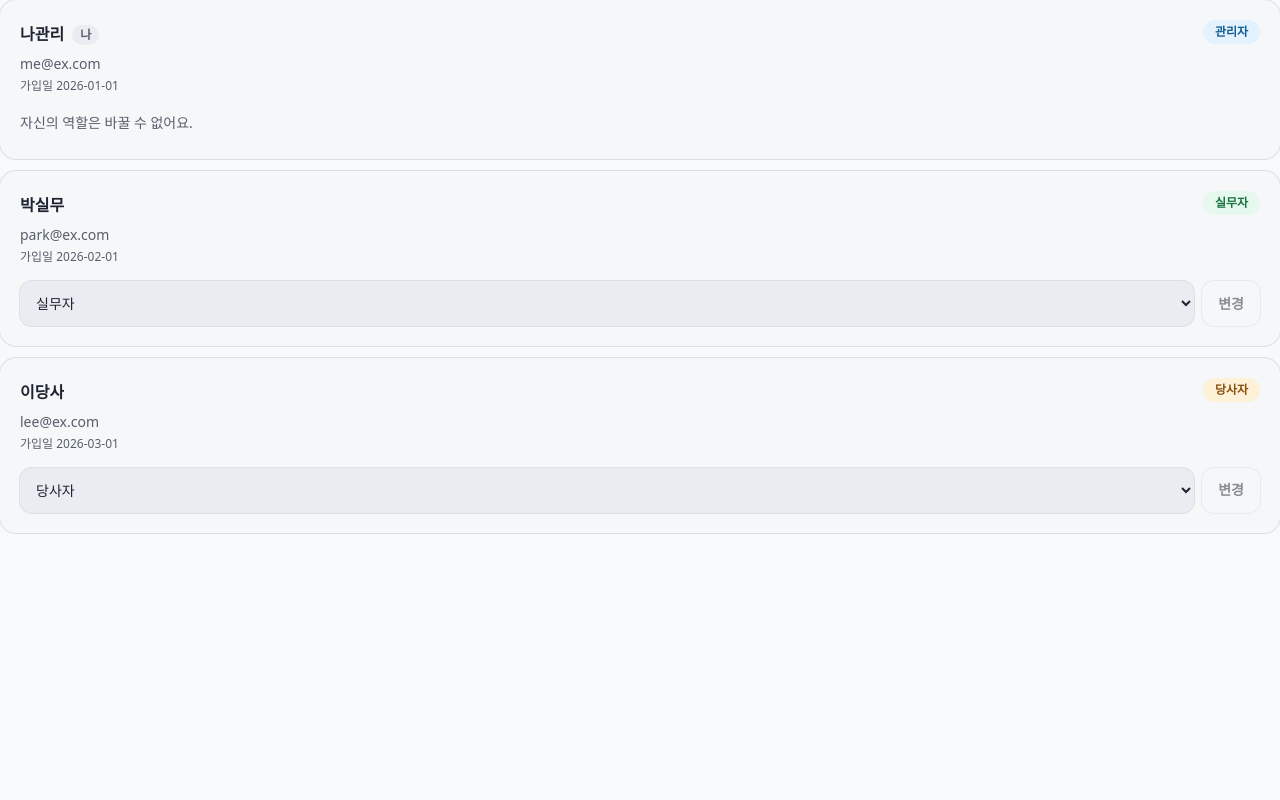
Scenario: UserRoleManagementClient — 역할 관리 › 역할을 바꾸면 바로 저장하지 않고 확인 단계를 거친다
The width and height of the screenshot is (1280, 800).
Select "관리자" in the dropdown named "박실무" at (607,304), box x1=20 y1=281 x2=1194 y2=326
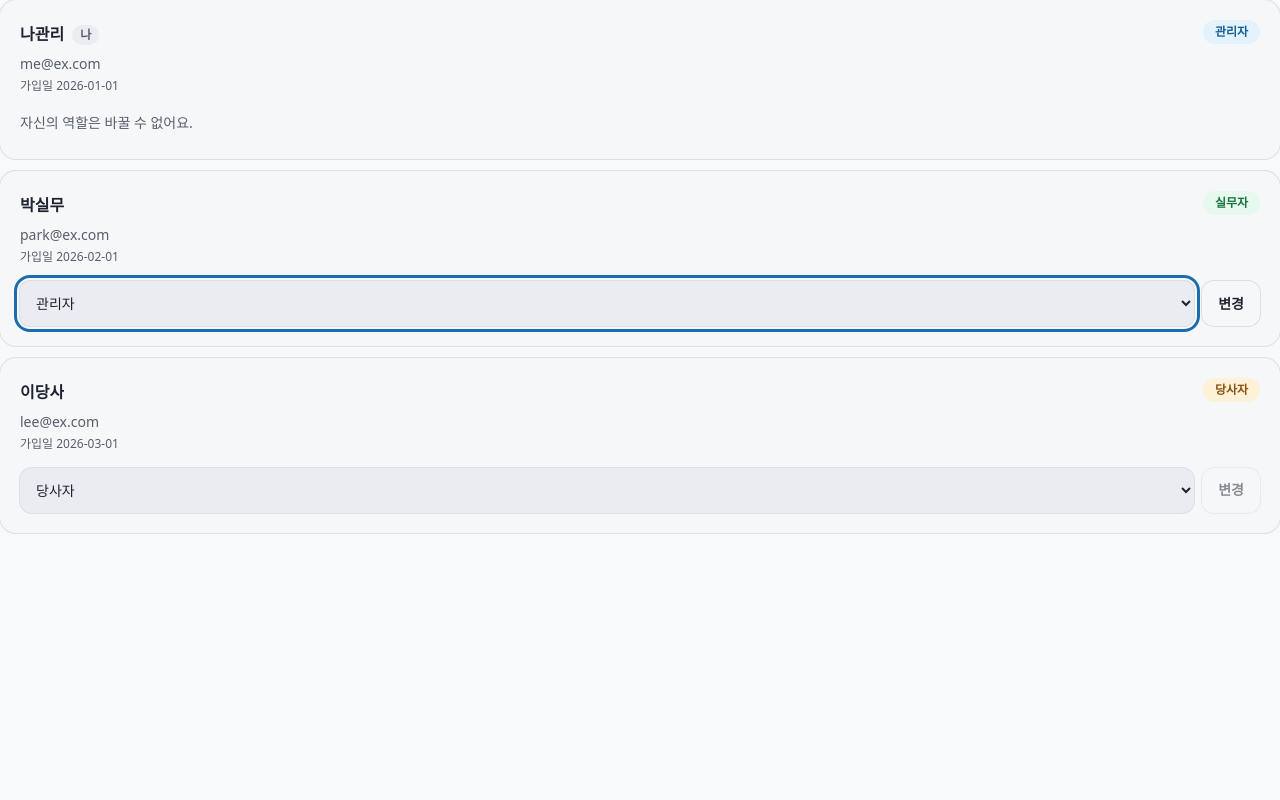
Click the button "변경" below "실무자" at (1231,304), box x1=1202 y1=281 x2=1260 y2=326
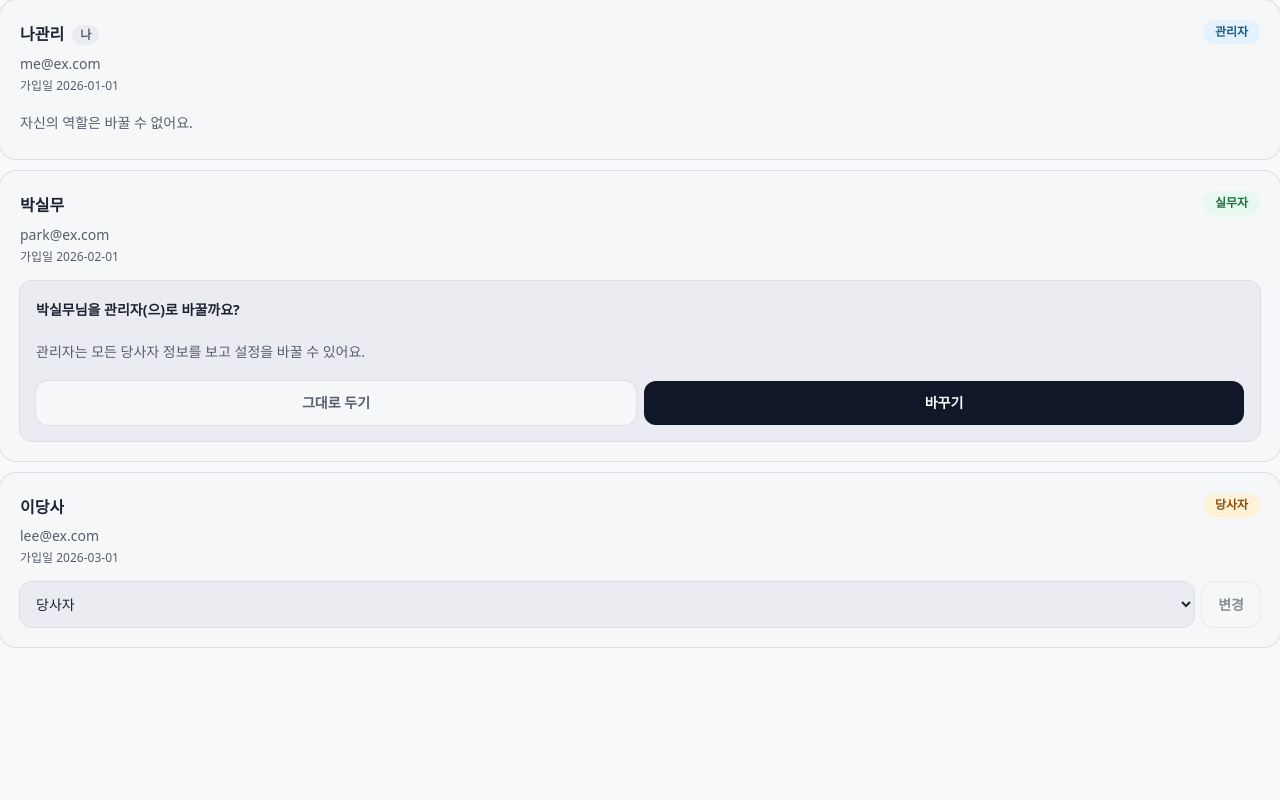
Result: the text "바꿀까요" is shown at x1=143 y1=300 x2=240 y2=319
